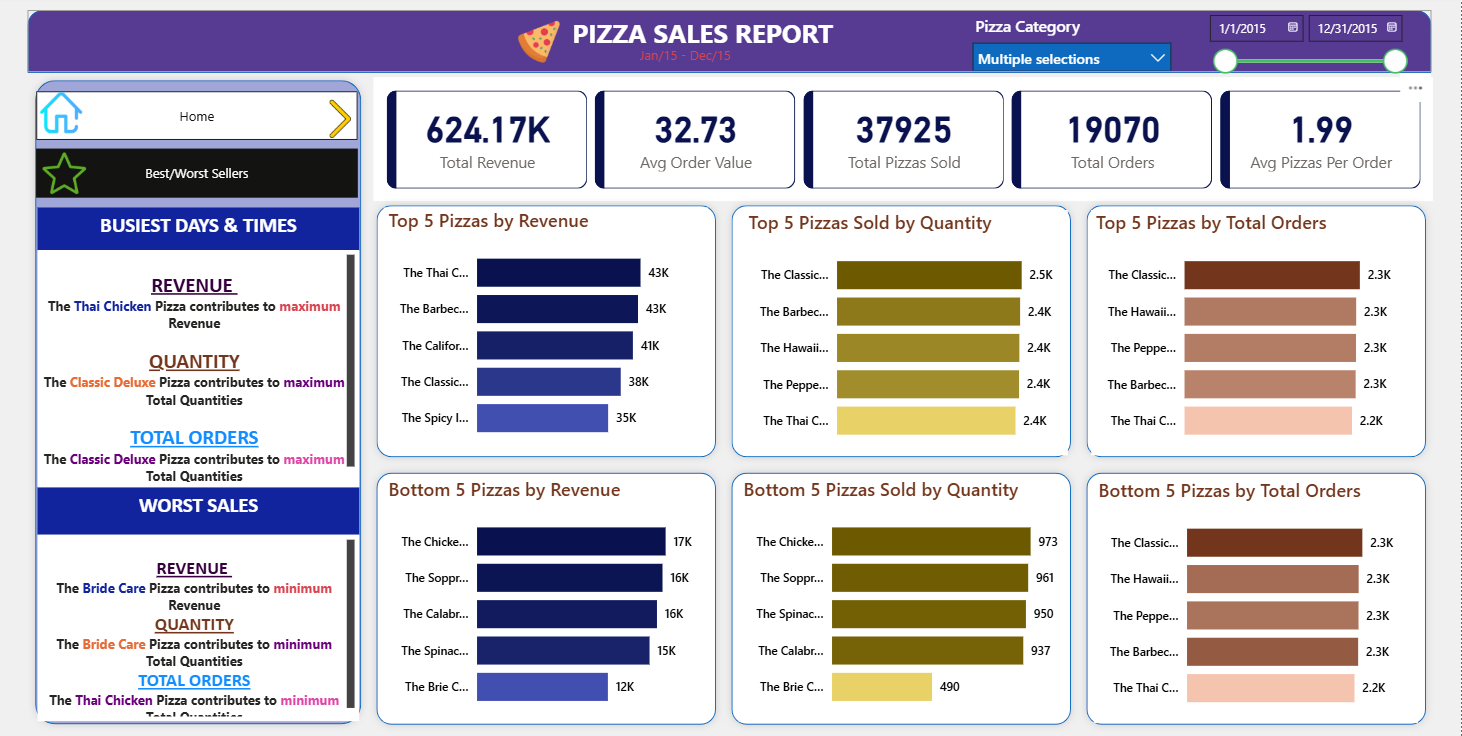

The dashboard page shown, as its layout file describes it:
{"tool":"powerbi","page":{"name":"Best/Worst Sellers","canvas":[1500,820],"ordinal":1},"visuals":[{"type":"cardVisual","fields":{"Data":["pizza_sales.Total Revenue","pizza_sales.Avg Order Value","pizza_sales.Total Pizzas Sold","pizza_sales.Total Orders","pizza_sales.Avg Pizzas Per Order"]},"box":[378.5,74.7,1102.5,138],"z":0},{"type":"shape","box":[27.8,10.1,1441.8,64.6],"z":1000},{"type":"textbox","box":[582.5,10,287.5,45],"z":2000},{"type":"textbox","box":[652.5,42.5,121.2,28.8],"z":3000},{"type":"image","box":[500,20,105,45],"z":4000},{"type":"shape","box":[378.5,202.5,364.6,274.7],"z":5000},{"type":"shape","box":[27.8,74.7,350.6,677.2],"z":11000},{"type":"textbox","box":[38,212.7,330.4,44.3],"z":16000},{"type":"textbox","box":[38,257,330.4,244.3],"z":17000},{"type":"textbox","box":[38,549.4,330.4,191.1],"z":18000},{"type":"textbox","box":[38,501.3,330.4,48.1],"z":19000},{"type":"slicer","fields":{"Values":["pizza_sales.pizza_category"]},"box":[988.6,10.1,224.1,62],"z":20000},{"type":"slicer","fields":{"Values":["pizza_sales.order_date"]},"box":[1229.1,5.1,224.1,74.7],"z":21000},{"type":"shape","box":[378.5,477.2,364.6,274.7],"z":21003},{"type":"shape","box":[743,202.5,364.6,274.7],"z":21004},{"type":"shape","box":[1107.6,202.5,364.6,274.7],"z":21005},{"type":"shape","box":[743,477.2,364.6,274.7],"z":21006},{"type":"shape","box":[1107.6,477.2,364.6,274.7],"z":21007},{"type":"barChart","title":"Top 5 Pizzas by Revenue","fields":{"Category":["pizza_sales.pizza_name"],"Y":["pizza_sales.Total Revenue"]},"box":[393.7,212.7,332.9,251.9],"z":21008},{"type":"barChart","title":"Bottom 5 Pizzas by Revenue","fields":{"Category":["pizza_sales.pizza_name"],"Y":["pizza_sales.Total Revenue"]},"box":[393.7,488.6,332.9,251.9],"z":21009},{"type":"barChart","title":"Top 5 Pizzas Sold by Quantity","fields":{"Category":["pizza_sales.pizza_name"],"Y":["pizza_sales.Total Pizzas Sold"]},"box":[763.3,215.2,332.9,251.9],"z":21010},{"type":"barChart","title":"Bottom 5 Pizzas Sold by Quantity","fields":{"Category":["pizza_sales.pizza_name"],"Y":["pizza_sales.Total Pizzas Sold"]},"box":[758.2,488.6,332.9,251.9],"z":21011},{"type":"barChart","title":"Top 5 Pizzas  by Total Orders","fields":{"Category":["pizza_sales.pizza_name"],"Y":["pizza_sales.Total Orders"]},"box":[1120.3,215.2,332.9,251.9],"z":21012},{"type":"barChart","title":"Bottom 5 Pizzas  by Total Orders","fields":{"Category":["pizza_sales.pizza_name"],"Y":["pizza_sales.Total Orders"]},"box":[1122.8,489.9,332.9,251.9],"z":21013},{"type":"pageNavigator","box":[37.8,93.9,330.5,50],"z":21014},{"type":"pageNavigator","box":[37.8,152.4,330.5,50],"z":21015},{"type":"image","box":[43.9,151.2,45.1,52.4],"z":21016},{"type":"image","box":[329.3,100,39,43.9],"z":21017},{"type":"image","box":[37.8,93.9,51.2,43.9],"z":21018}]}

Visuals, with their boxes on the page's 1500x820 design canvas (x1, y1, x2, y2). These are canvas units, not pixel positions in the 1462x736 screenshot, which may show the page scaled, cropped or inside an application window:
cardVisual - pizza_sales.Total Revenue x pizza_sales.Avg Order Value: BBox(378, 75, 1481, 213)
shape: BBox(28, 10, 1470, 75)
textbox: BBox(582, 10, 870, 55)
textbox: BBox(652, 42, 774, 71)
image: BBox(500, 20, 605, 65)
shape: BBox(378, 202, 743, 477)
shape: BBox(28, 75, 378, 752)
textbox: BBox(38, 213, 368, 257)
textbox: BBox(38, 257, 368, 501)
textbox: BBox(38, 549, 368, 740)
textbox: BBox(38, 501, 368, 549)
slicer - pizza_sales.pizza_category: BBox(989, 10, 1213, 72)
slicer - pizza_sales.order_date: BBox(1229, 5, 1453, 80)
shape: BBox(378, 477, 743, 752)
shape: BBox(743, 202, 1108, 477)
shape: BBox(1108, 202, 1472, 477)
shape: BBox(743, 477, 1108, 752)
shape: BBox(1108, 477, 1472, 752)
"Top 5 Pizzas by Revenue" barChart: BBox(394, 213, 727, 465)
"Bottom 5 Pizzas by Revenue" barChart: BBox(394, 489, 727, 740)
"Top 5 Pizzas Sold by Quantity" barChart: BBox(763, 215, 1096, 467)
"Bottom 5 Pizzas Sold by Quantity" barChart: BBox(758, 489, 1091, 740)
"Top 5 Pizzas  by Total Orders" barChart: BBox(1120, 215, 1453, 467)
"Bottom 5 Pizzas  by Total Orders" barChart: BBox(1123, 490, 1456, 742)
pageNavigator: BBox(38, 94, 368, 144)
pageNavigator: BBox(38, 152, 368, 202)
image: BBox(44, 151, 89, 204)
image: BBox(329, 100, 368, 144)
image: BBox(38, 94, 89, 138)
